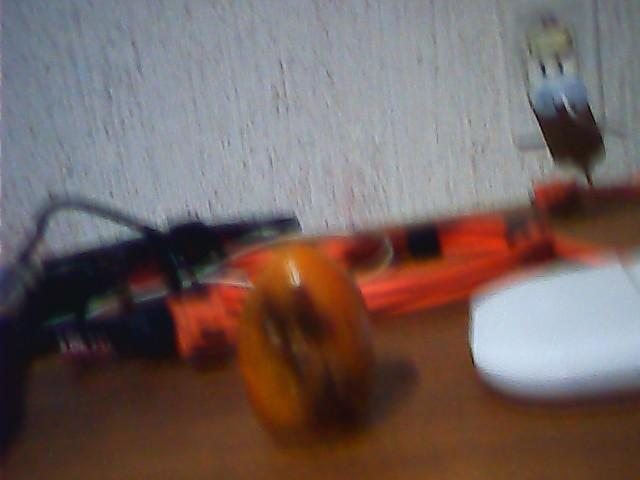defectuoso: (236, 250, 369, 445)
